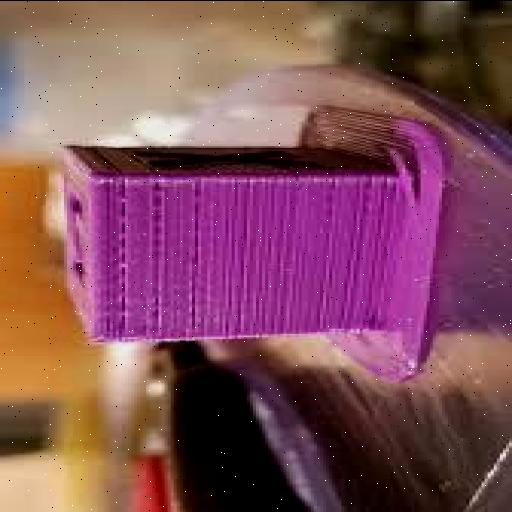cracks: (106, 178, 176, 340), (314, 174, 408, 230), (186, 176, 206, 334), (350, 298, 393, 334)
